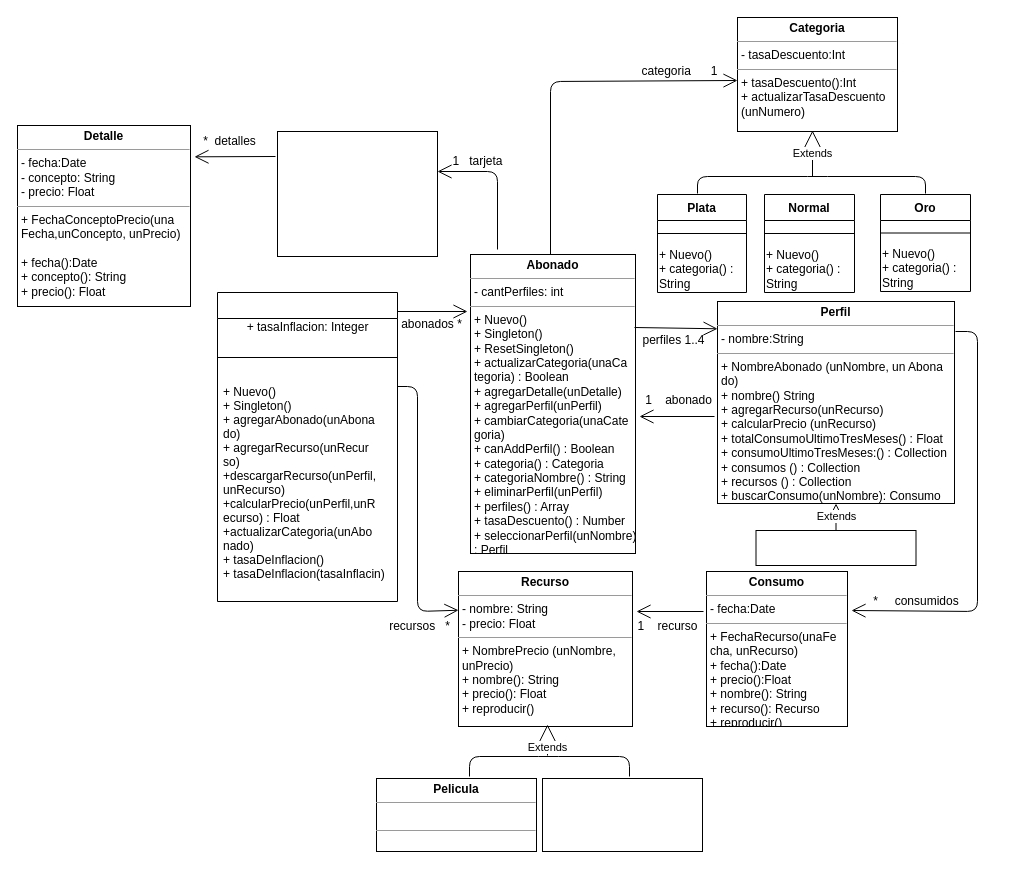
The diagram is 1009 pixels wide and 869 high, and some of its shapes have lost their labels. The box of each missing label's shape, as (x1, y1, x2, y2) in pixels:
Niño: (755, 530, 916, 566)
Serie: (542, 778, 702, 852)
Sitio: (216, 292, 398, 602)
Tarjeta + Nueva() + agregarDetalle (unDetalle): (276, 130, 438, 256)
